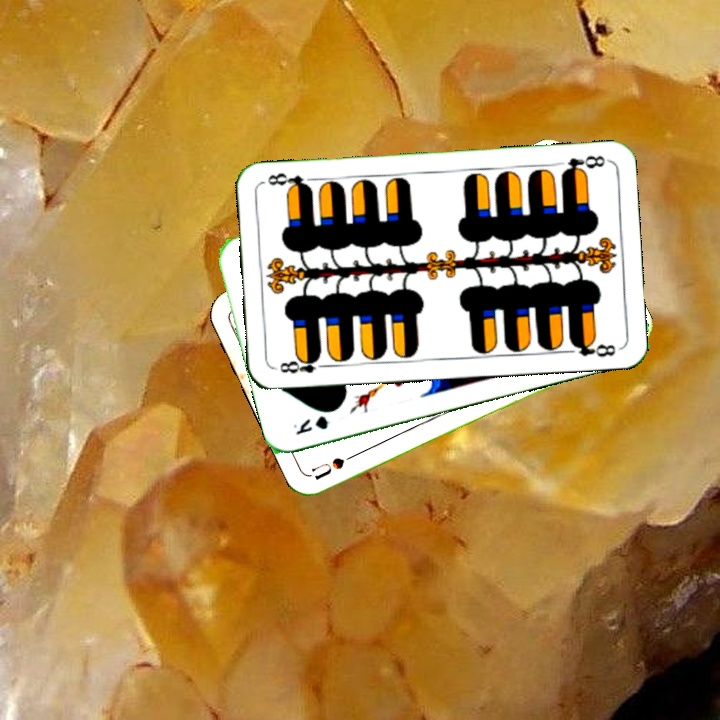E8: (557, 151, 609, 178), (276, 352, 331, 376)
GK: (289, 411, 333, 438)
SU: (308, 446, 366, 483)
